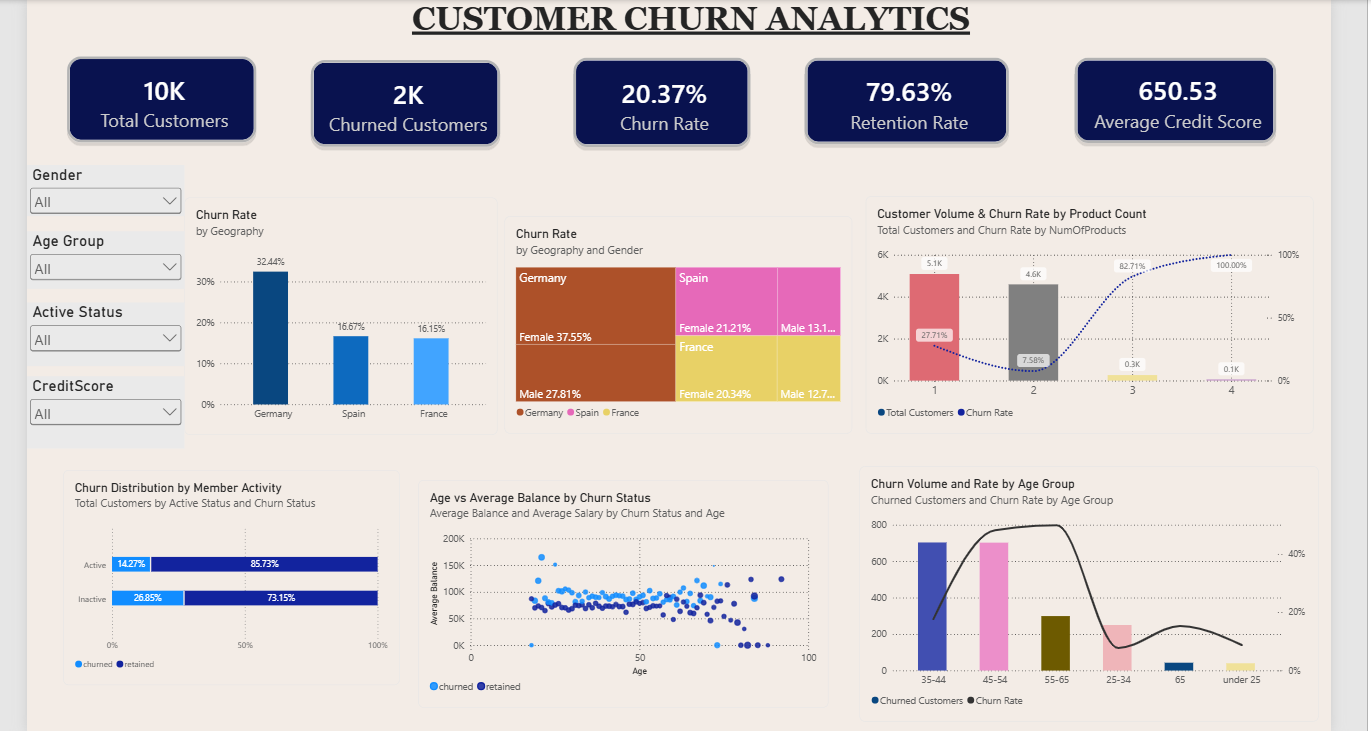

Layout of this report page (visuals, bound fields, positions):
{"tool":"powerbi","page":{"name":"Page 1","canvas":[1920,1080],"ordinal":0},"visuals":[{"type":"cardVisual","fields":{"Data":["Churn_Modelling.Total Customers"]},"box":[53.4,77.3,290.8,138],"z":0},{"type":"cardVisual","fields":{"Data":["Churn_Modelling.Churned Customers"]},"box":[412.3,82.8,290.8,139.9],"z":1000},{"type":"cardVisual","fields":{"Data":["Churn_Modelling.Churn Rate"]},"box":[798.8,79.1,272.4,143.6],"z":2000},{"type":"cardVisual","fields":{"Data":["Churn_Modelling.Retention Rate"]},"box":[1139.3,79.1,312.9,139.9],"z":3000},{"type":"cardVisual","fields":{"Data":["Churn_Modelling.Average Credit Score"]},"box":[1536.8,79.1,308.7,137.9],"z":4000},{"type":"clusteredColumnChart","fields":{"Category":["Churn_Modelling.Geography"],"Y":["Churn_Modelling.Churn Rate"]},"box":[231.9,290.8,461.1,349.9],"z":5000},{"type":"slicer","fields":{"Values":["Churn_Modelling.Gender"]},"box":[0,242.9,231.9,75.5],"z":6000},{"type":"slicer","fields":{"Values":["Churn_Modelling.Age Group"]},"box":[0,340.5,231.9,84.7],"z":7000},{"type":"lineClusteredColumnComboChart","title":"Customer Volume & Churn Rate by Product Count","fields":{"Category":["Churn_Modelling.NumOfProducts"],"Y":["Churn_Modelling.Total Customers"],"Y2":["Churn_Modelling.Churn Rate"]},"box":[1235,289,658.9,349.7],"z":8000},{"type":"lineClusteredColumnComboChart","title":"Churn Volume and Rate by Age Group","fields":{"Category":["Churn_Modelling.Age Group"],"Y":["Churn_Modelling.Churned Customers"],"Y2":["Churn_Modelling.Churn Rate"]},"box":[1225.8,686.5,676,376],"z":9000},{"type":"hundredPercentStackedBarChart","title":"Churn Distribution by Member Activity","fields":{"Category":["Churn_Modelling.Active Status"],"Series":["Churn_Modelling.Churn Status"],"Y":["Churn_Modelling.Total Customers"]},"box":[53.4,692,495.1,316.6],"z":10000},{"type":"treemap","fields":{"Details":["Churn_Modelling.Gender"],"Group":["Churn_Modelling.Geography"],"Values":["Churn_Modelling.Churn Rate"]},"box":[703.1,318.4,512,320],"z":11000},{"type":"scatterChart","title":"Age vs Average Balance by Churn Status","fields":{"Series":["Churn_Modelling.Churn Status"],"Size":["Churn_Modelling.Average Salary"],"X":["Churn_Modelling.Age"],"Y":["Churn_Modelling.Average Balance"]},"box":[576.1,706.8,603.7,335],"z":12000},{"type":"textbox","box":[558,0,840,80],"z":13000},{"type":"slicer","fields":{"Values":["Churn_Modelling.Active Status"]},"box":[0,445.4,231.9,93.9],"z":14000},{"type":"slicer","fields":{"Values":["Churn_Modelling.CreditScore"]},"box":[0,554,231.9,106.7],"z":15000}]}

Visuals, with their boxes on the page's 1920x1080 design canvas (x1, y1, x2, y2). These are canvas units, not pixel positions in the 1371x731 screenshot, which may show the page scaled, cropped or inside an application window:
cardVisual - Churn_Modelling.Total Customers: rect(53, 77, 344, 215)
cardVisual - Churn_Modelling.Churned Customers: rect(412, 83, 703, 223)
cardVisual - Churn_Modelling.Churn Rate: rect(799, 79, 1071, 223)
cardVisual - Churn_Modelling.Retention Rate: rect(1139, 79, 1452, 219)
cardVisual - Churn_Modelling.Average Credit Score: rect(1537, 79, 1846, 217)
clusteredColumnChart - Churn_Modelling.Geography x Churn_Modelling.Churn Rate: rect(232, 291, 693, 641)
slicer - Churn_Modelling.Gender: rect(0, 243, 232, 318)
slicer - Churn_Modelling.Age Group: rect(0, 340, 232, 425)
"Customer Volume & Churn Rate by Product Count" lineClusteredColumnComboChart: rect(1235, 289, 1894, 639)
"Churn Volume and Rate by Age Group" lineClusteredColumnComboChart: rect(1226, 686, 1902, 1062)
"Churn Distribution by Member Activity" hundredPercentStackedBarChart: rect(53, 692, 548, 1009)
treemap - Churn_Modelling.Gender x Churn_Modelling.Geography: rect(703, 318, 1215, 638)
"Age vs Average Balance by Churn Status" scatterChart: rect(576, 707, 1180, 1042)
textbox: rect(558, 0, 1398, 80)
slicer - Churn_Modelling.Active Status: rect(0, 445, 232, 539)
slicer - Churn_Modelling.CreditScore: rect(0, 554, 232, 661)
